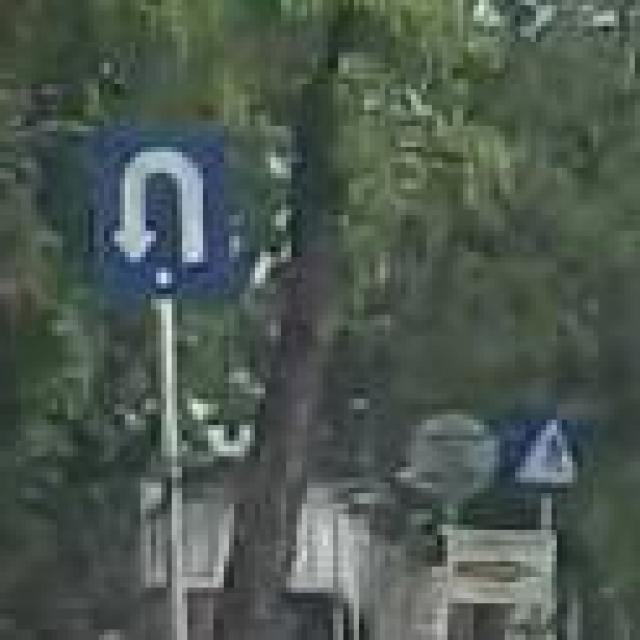U-turn: (87, 125, 228, 294)
